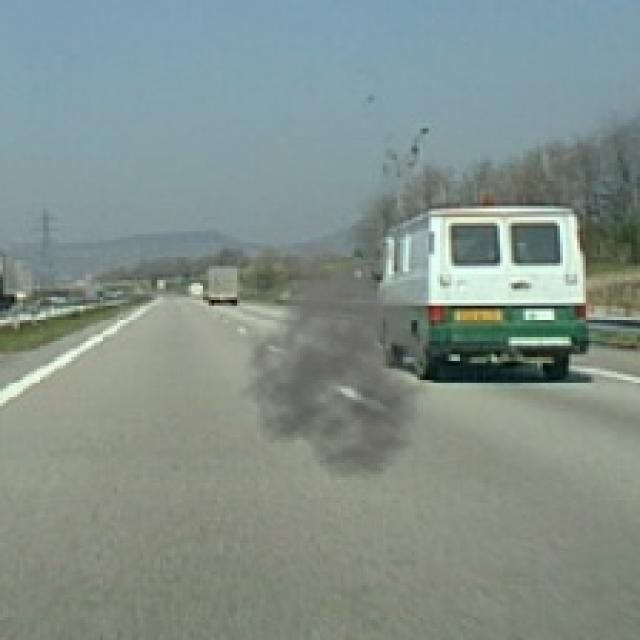smoke: (237, 243, 454, 480)
